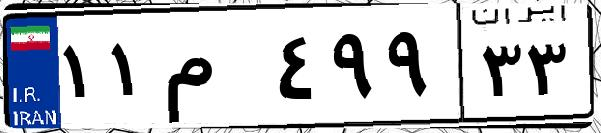1: (57, 26, 110, 100), (110, 28, 158, 98)
3: (475, 38, 525, 113), (525, 38, 570, 115)
4: (270, 28, 330, 110)
9: (385, 28, 445, 110), (330, 28, 385, 110)
م: (158, 20, 270, 120)
